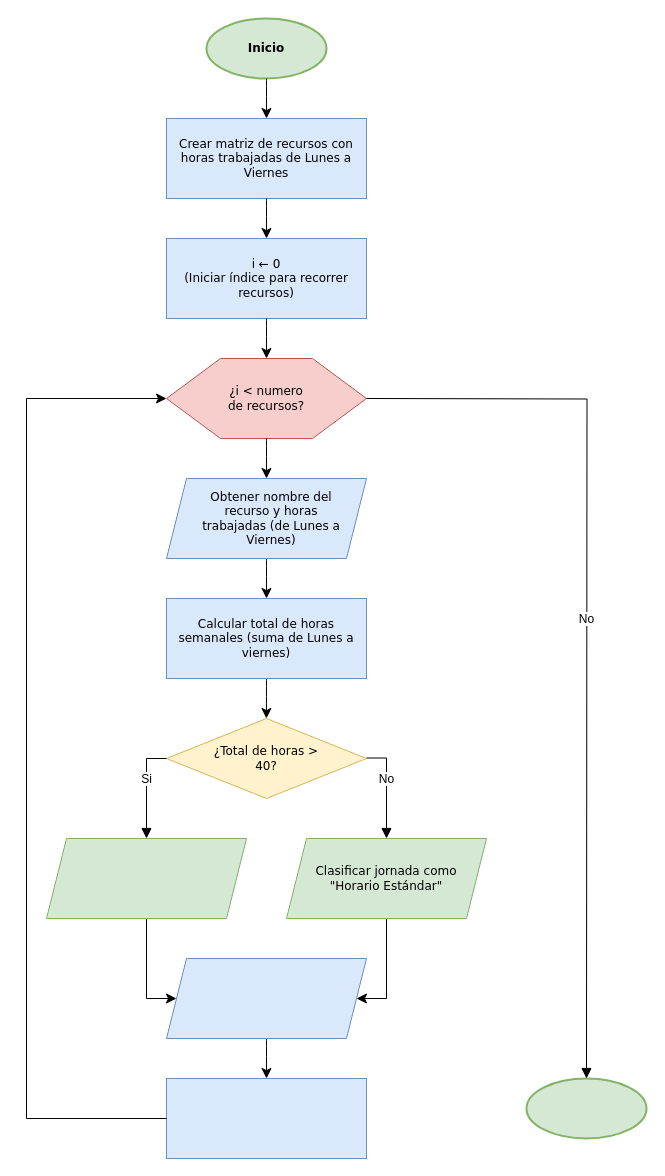
Image size: 665x1176. Some labels were removed from this diagram. Here are the shapes that lost their labels. From the top down, the centre of each, then its label:
(146,878): Clasificar jornada como "Sobretiempo"
(266,998): Mostrar nombre del recurso, total de horas y clasificación de jornada
(266,1118): i ← i + 1 (Siguiente recurso)
(586,1108): Fin
